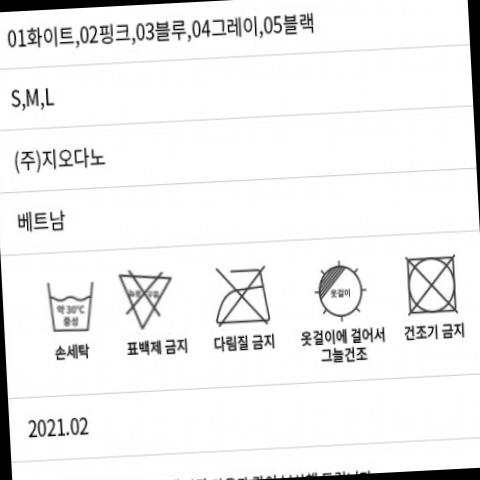30C: (42, 275, 100, 337)
DN_iron: (211, 263, 277, 329)
DN_tumble_dry: (402, 247, 460, 319)
line_dry_in_shade: (308, 256, 379, 323)
non_chlorine_bleach: (116, 266, 179, 330)
